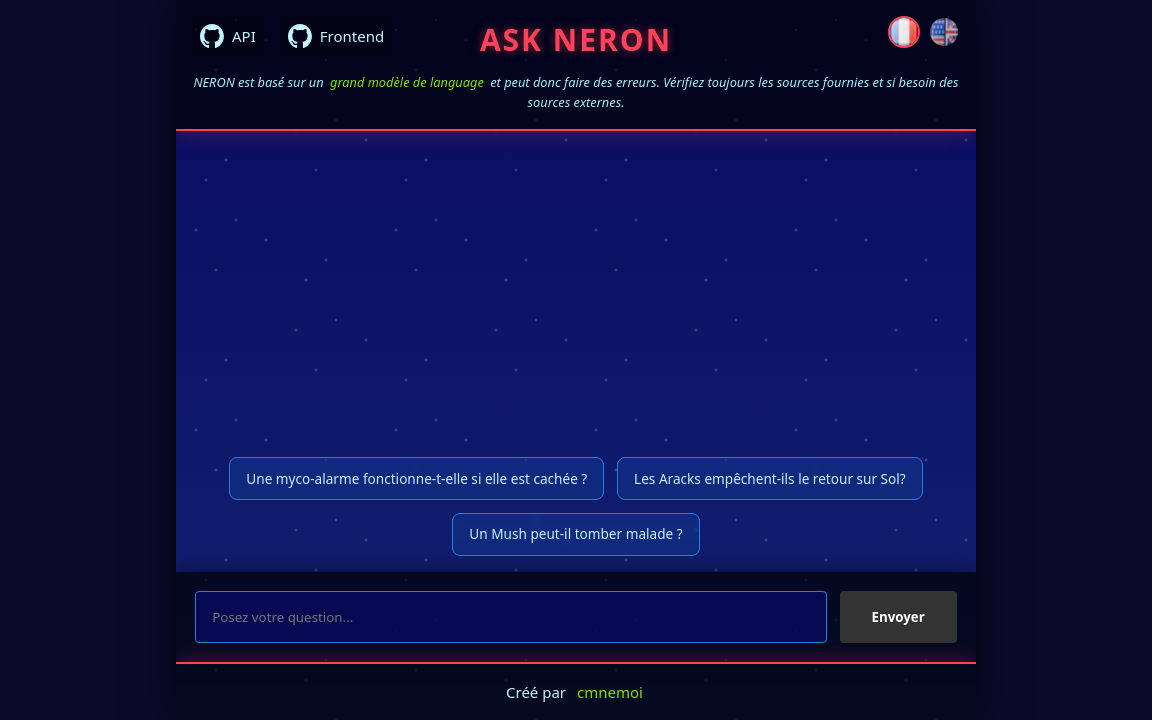
ChatBot › switches example questions to English when language is changed
Click the picture named "Switch to en".
click(944, 32)  # box [928, 16, 960, 48]
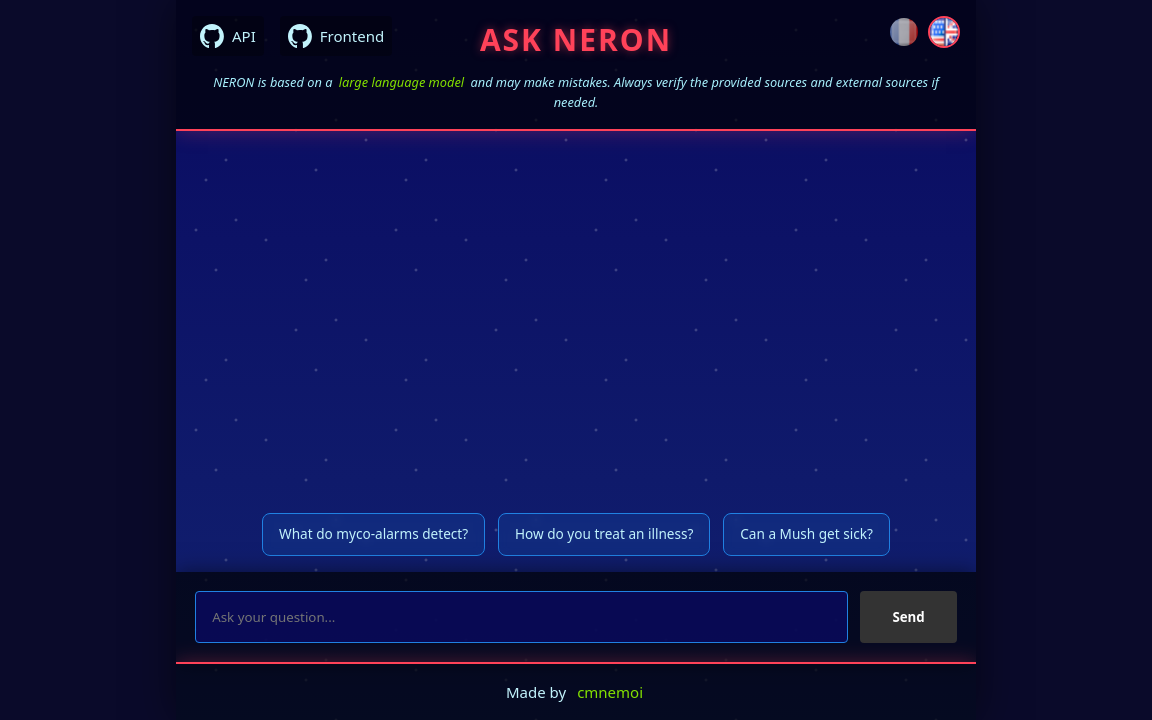
expect the text with class "example-question" reads "What do myco-alarms detect?": met, box [279, 524, 468, 543]
expect the text with class "example-question" reads "How do you treat an illness?": met, box [515, 524, 693, 543]
expect the text with class "example-question" reads "Can a Mush get sick?": met, box [740, 524, 873, 543]
